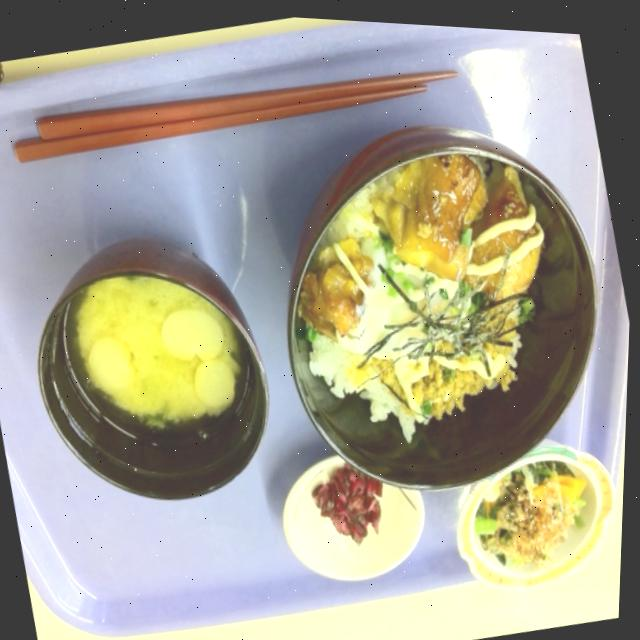汤锅炖物: (4, 207, 298, 539)
